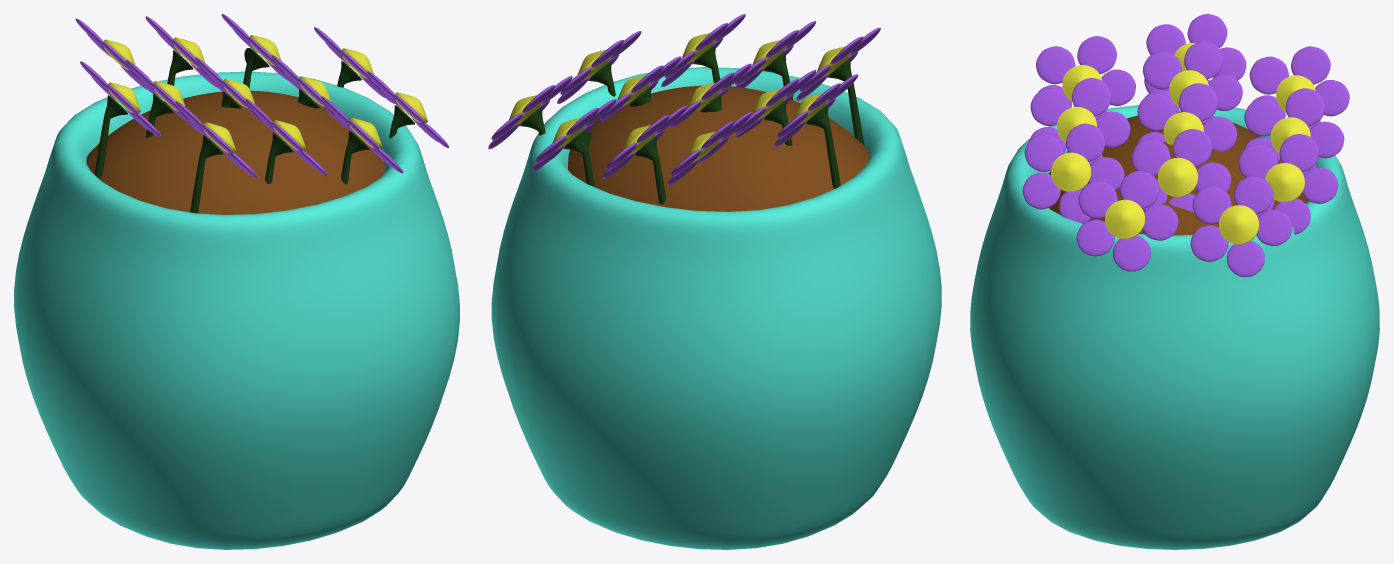
Rendered from pensamiento 1.fbx.
3 views of the same model, side by side, from view 1: azimuth 30°, elevation 25°; view 2: azimuth 150°, elevation 25°; view 3: azimuth 270°, elevation 25° (orthographic). The views are drawn at different scales.
Visible parts, largest first — view 1: Cube.021; view 2: Cube.021; view 3: Cube.021.
Boxes of the visible parts, x1,y1,x2,y2 form: Cube.021: (14, 14, 459, 549); Cube.021: (488, 14, 941, 549); Cube.021: (970, 14, 1379, 549).
Size of the model in its own units: 31.43 by 36.22 by 31.43.
